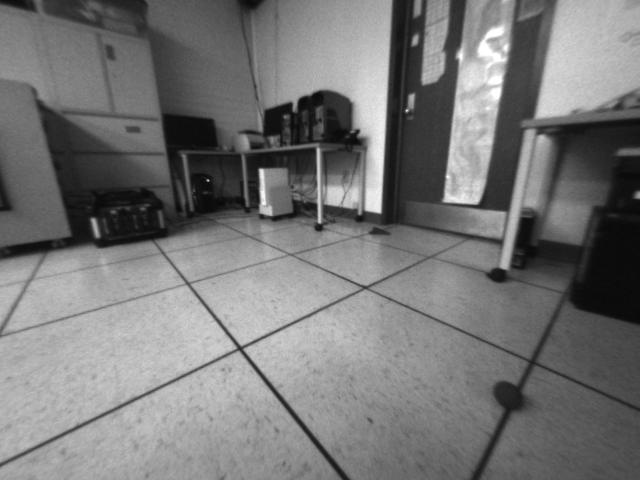dogtoy: (487, 372, 537, 416)
